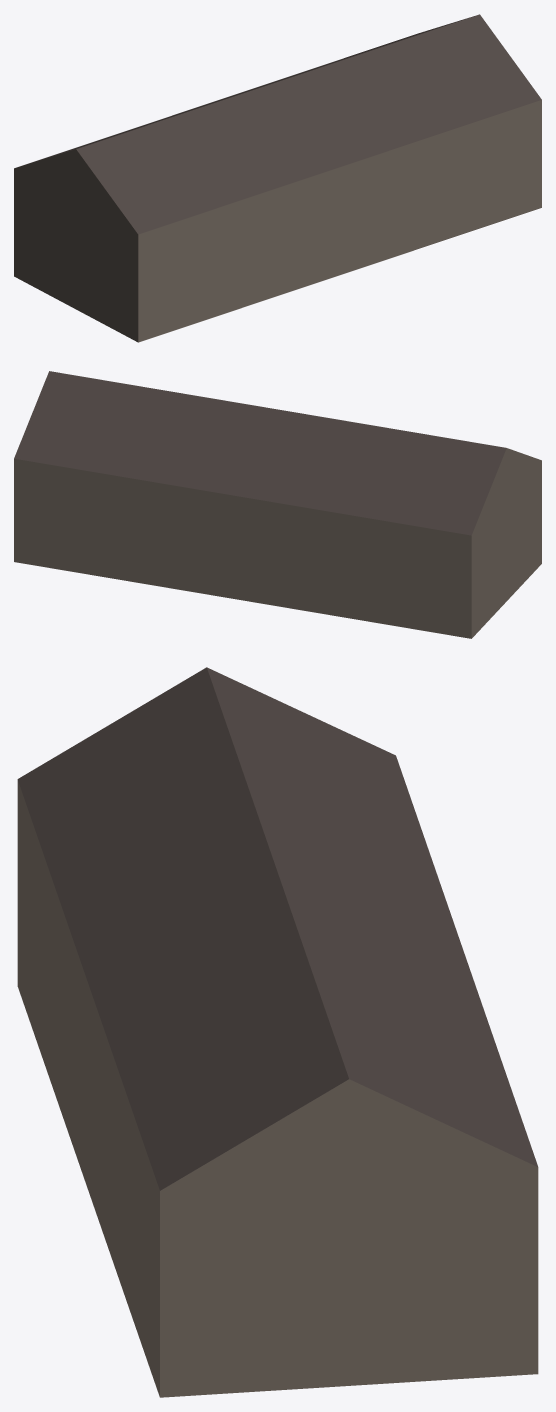
The picture shows the model from 3 angles, top to bottom: view 1: azimuth 30°, elevation 25°; view 2: azimuth 150°, elevation 25°; view 3: azimuth 270°, elevation 25°; orthographic projection. The views are drawn at different scales.
Parts seen in each view (by area): view 1: HP-w1376988718; view 2: HP-w1376988718; view 3: HP-w1376988718.
Boxes of the visible parts, x1,y1,x2,y2 form: HP-w1376988718: (14, 14, 541, 342); HP-w1376988718: (14, 371, 541, 638); HP-w1376988718: (17, 667, 538, 1397).
Size of the model in its own units: 27.11 by 8.91 by 13.7.
